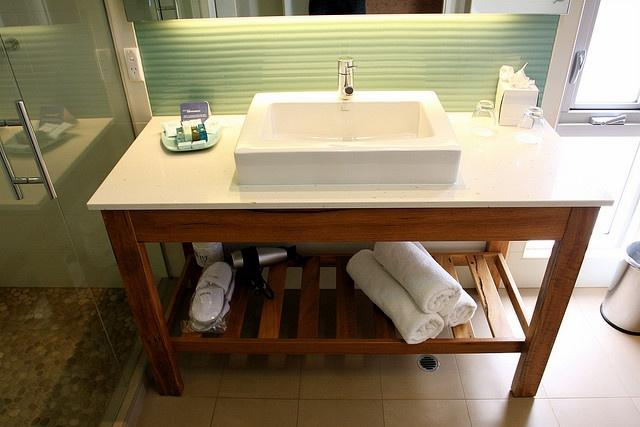Meja: (85, 110, 614, 398)
